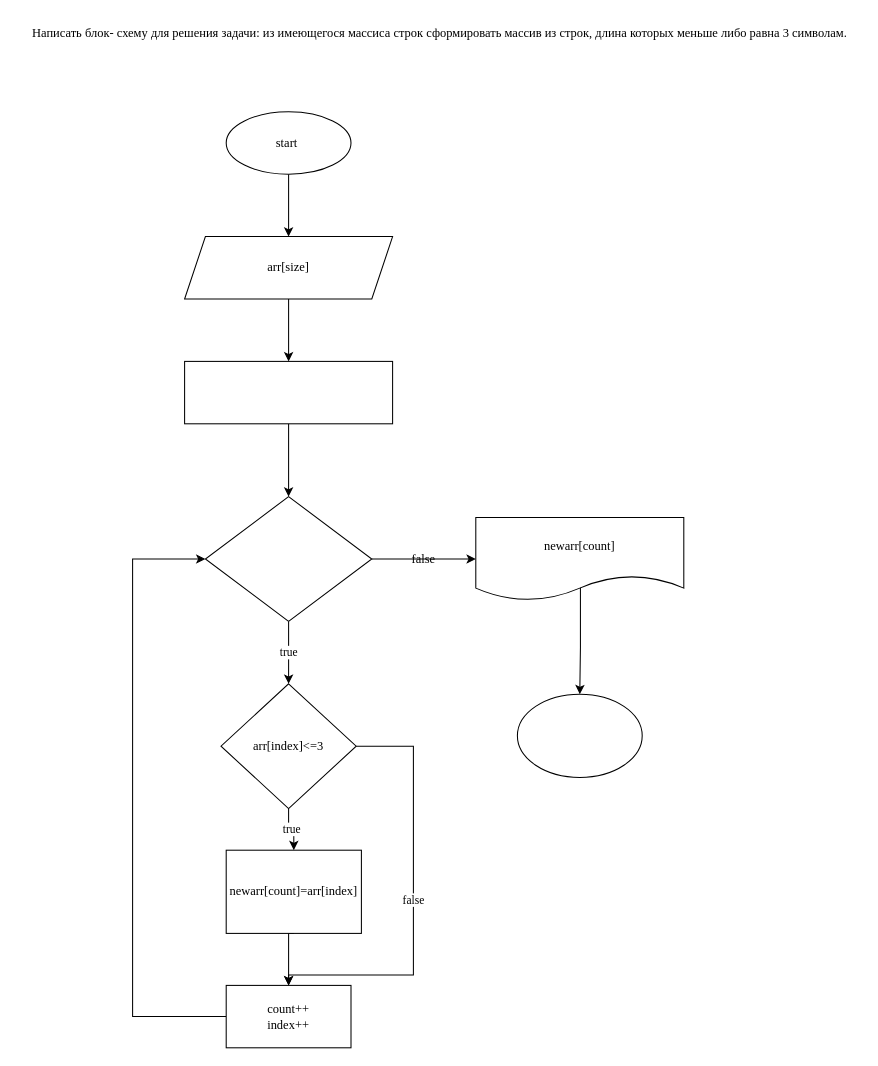
Some shapes in this 878 by 1066 pixel diagram are drawn without their labels. Here are the shapes that lost their labels. From the top down, the box of each, then its label:
(184, 360, 393, 424): index=0 count =0 newarr=arr[size]
(204, 496, 372, 621): index<size
(516, 693, 642, 777): end
